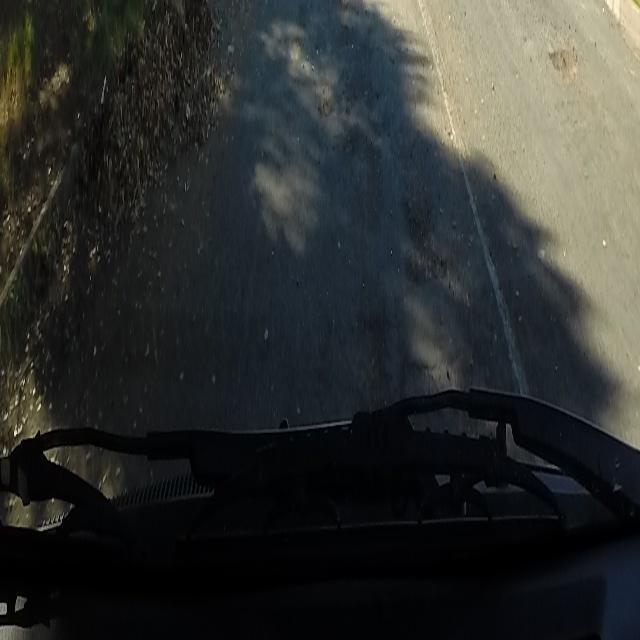pothole: (404, 182, 446, 294), (548, 37, 580, 85)
